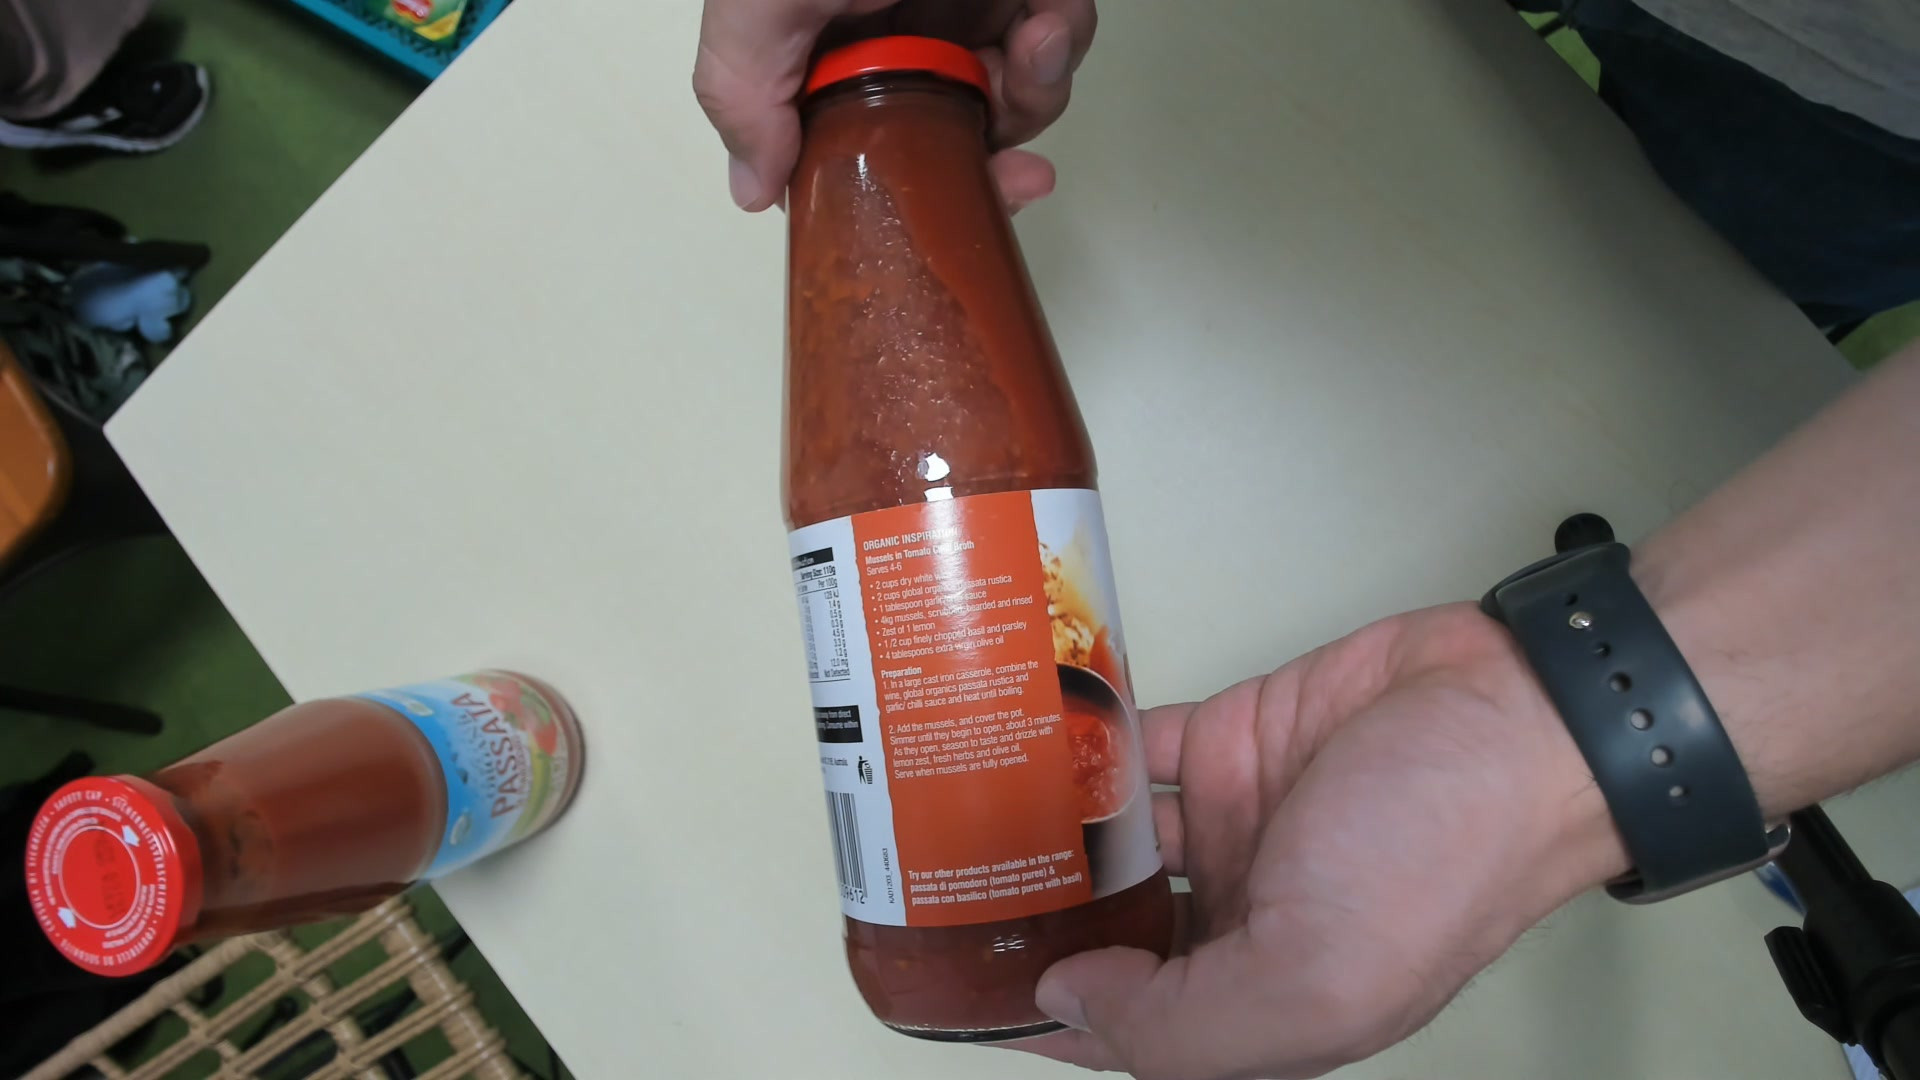PastaSauce_600-699g_NonHalal_NonHealthy: (783, 36, 1179, 1046)
